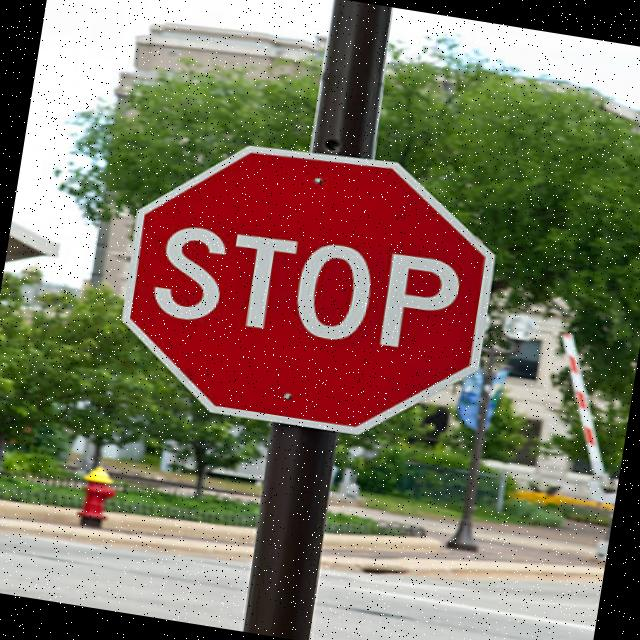stop: (96, 117, 518, 464)
